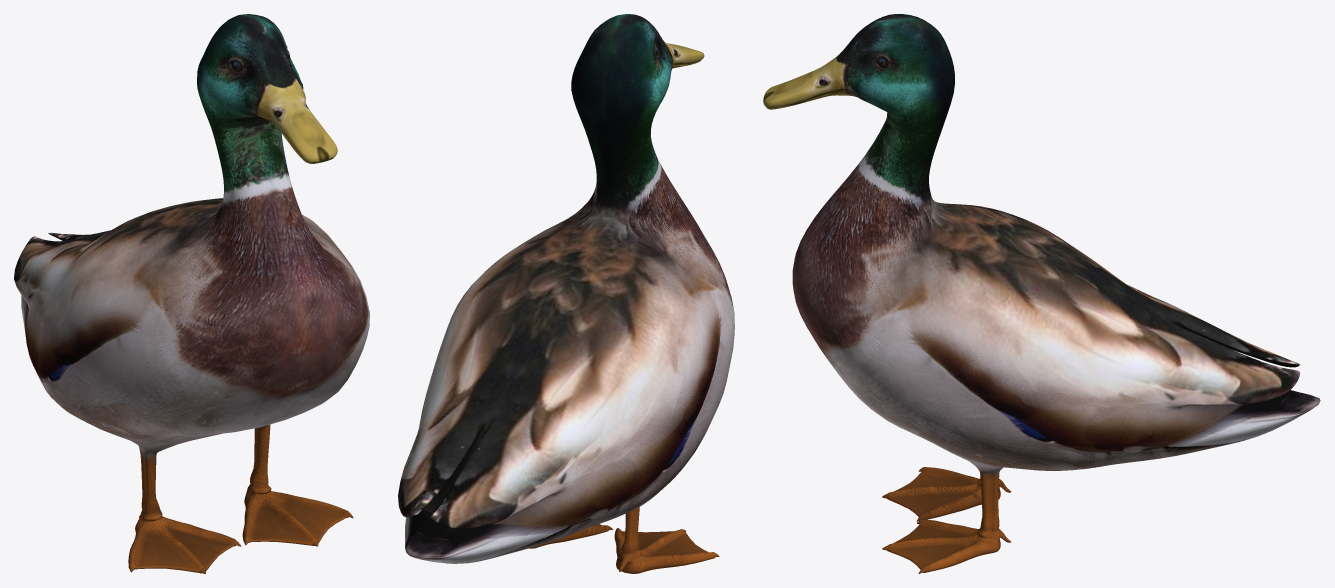
The model's file is dduck01.glb.
The picture shows the model from 3 angles, left to right: view 1: azimuth 30°, elevation 25°; view 2: azimuth 150°, elevation 25°; view 3: azimuth 270°, elevation 25°; orthographic projection. The views are drawn at different scales.
Visible parts, largest first — view 1: 12248_Bird_v1_L2; view 2: 12248_Bird_v1_L2; view 3: 12248_Bird_v1_L2.
Boxes of the visible parts, left/top/right/bottom form: 12248_Bird_v1_L2: left=14, top=14, right=369, bottom=573; 12248_Bird_v1_L2: left=398, top=14, right=734, bottom=573; 12248_Bird_v1_L2: left=763, top=14, right=1320, bottom=573.
Bounding box in the file's own units: 1.2 × 2.38 × 2.37.
1 material, 1 textured.
